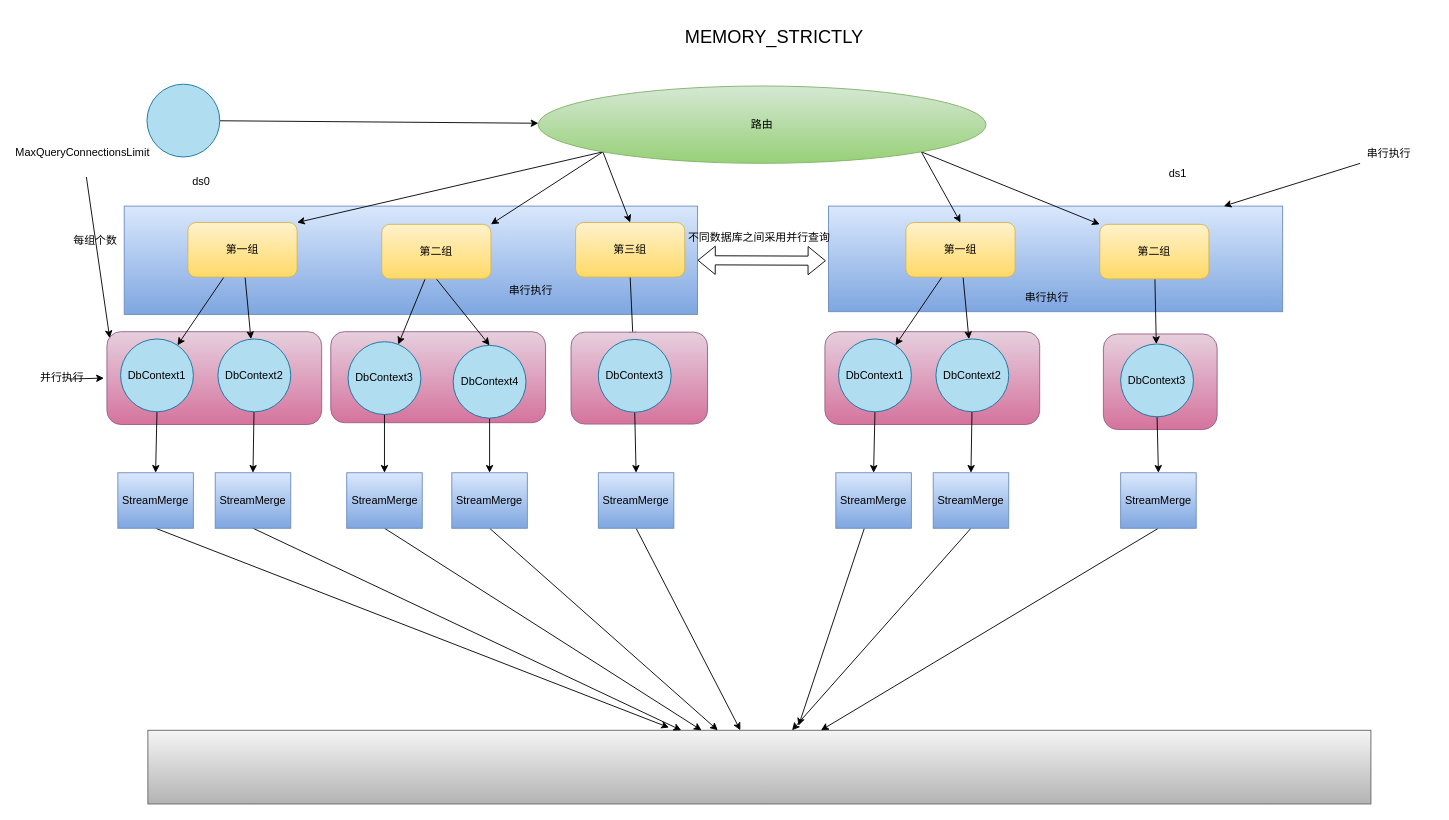
Some shapes in this 1449 by 820 pixel diagram are drawn without their labels. The shapes that lost their labels are listed below. From the top down, each one's box as (x1, y1, x2, y2) in pixels, then its label:
(146, 83, 220, 157): DbContext
(147, 729, 1371, 804): 各节点内存聚合或者流式聚合
